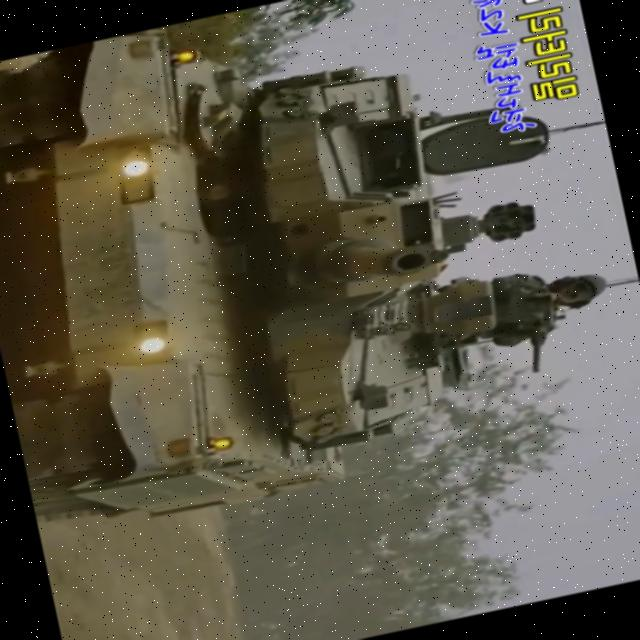korea tank: (0, 0, 632, 547)
